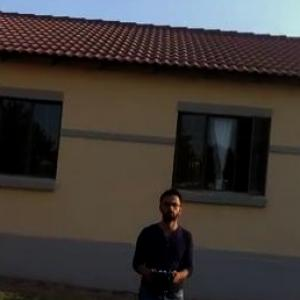follow: (130, 185, 200, 299)
